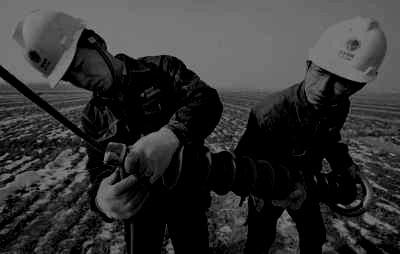helmet: (9, 7, 115, 92), (303, 16, 388, 104)
